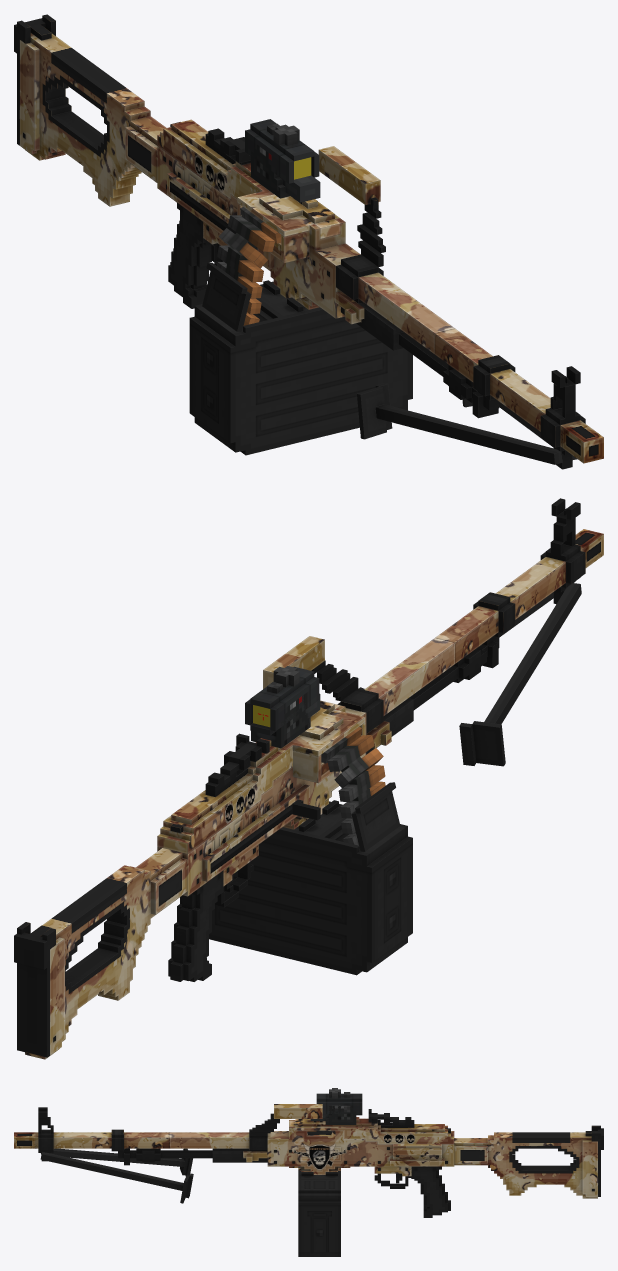
The model's file is RD_PKP_DESERT_STORM.glb.
The picture shows the model from 3 angles, top to bottom: view 1: azimuth 30°, elevation 25°; view 2: azimuth 150°, elevation 25°; view 3: azimuth 270°, elevation 25°; orthographic projection. The views are drawn at different scales.
Parts seen in each view (by area): view 1: PKP, PKP_CLIP, PKP_COVER, PKP_DIPOD_LEG1, SCOPE_TASCO, PKP_CLIP_COVER, SCOPE_EOTECH, PKP_BULLET_04, PKP_BULLET_06, PKP_BULLET_05; view 2: PKP, PKP_CLIP, PKP_COVER, PKP_DIPOD_LEG1, SCOPE_TASCO, PKP_CLIP_COVER, SCOPE_EOTECH, PKP_BULLET_04, PKP_BULLET_06, PKP_BULLET_05; view 3: PKP, PKP_CLIP, PKP_COVER, PKP_DIPOD_LEG2, PKP_DIPOD_LEG1, SCOPE_TASCO, SCOPE_EOTECH.
Part boxes in pixels (box(x1,y1,x2,y2)): PKP: box(14, 14, 603, 469); PKP_CLIP: box(189, 280, 412, 455); PKP_COVER: box(157, 119, 340, 238); PKP_DIPOD_LEG1: box(357, 383, 562, 464); SCOPE_TASCO: box(245, 119, 319, 190); PKP_CLIP_COVER: box(202, 262, 251, 331); SCOPE_EOTECH: box(251, 145, 320, 202); PKP_BULLET_04: box(217, 245, 263, 282); PKP_BULLET_06: box(228, 215, 275, 251); PKP_BULLET_05: box(219, 228, 267, 268); PKP: box(14, 498, 603, 1059); PKP_CLIP: box(209, 800, 412, 975); PKP_COVER: box(157, 700, 365, 853); PKP_DIPOD_LEG1: box(459, 583, 581, 766); SCOPE_TASCO: box(245, 666, 319, 745); PKP_CLIP_COVER: box(351, 782, 400, 851); SCOPE_EOTECH: box(251, 693, 320, 748); PKP_BULLET_04: box(338, 765, 385, 802); PKP_BULLET_06: box(327, 735, 374, 771); PKP_BULLET_05: box(334, 748, 383, 788); PKP: box(14, 1104, 603, 1217); PKP_CLIP: box(298, 1171, 340, 1256); PKP_COVER: box(289, 1109, 454, 1144); PKP_DIPOD_LEG2: box(40, 1152, 193, 1203); PKP_DIPOD_LEG1: box(41, 1148, 192, 1176); SCOPE_TASCO: box(316, 1088, 362, 1124); SCOPE_EOTECH: box(310, 1105, 356, 1124).
Size of the model in its own units: 0.3542 by 0.5216 by 1.9.
7 materials, 7 textured.
